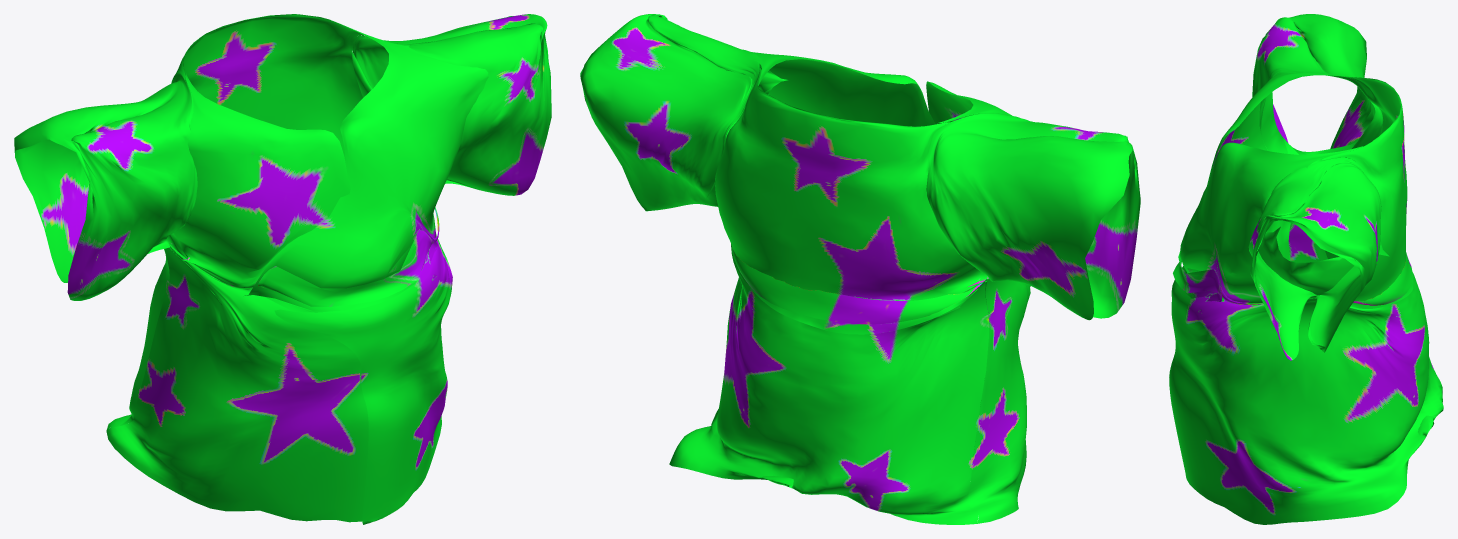
The model's file is Wizard-Cloak-Green.glb.
The picture shows the model from 3 angles, left to right: view 1: azimuth 30°, elevation 25°; view 2: azimuth 150°, elevation 25°; view 3: azimuth 270°, elevation 25°; orthographic projection. The views are drawn at different scales.
Visible parts, largest first — view 1: Wizard-Cloak-Green; view 2: Wizard-Cloak-Green; view 3: Wizard-Cloak-Green.
Part boxes in pixels (x1=…): Wizard-Cloak-Green: x1=14, y1=14, x2=551, y2=524; Wizard-Cloak-Green: x1=580, y1=14, x2=1140, y2=524; Wizard-Cloak-Green: x1=1169, y1=14, x2=1443, y2=524.
Bounding box in the file's own units: 0.6682 × 0.5166 × 0.3434.
Materials: 2 (2 with a texture image).
